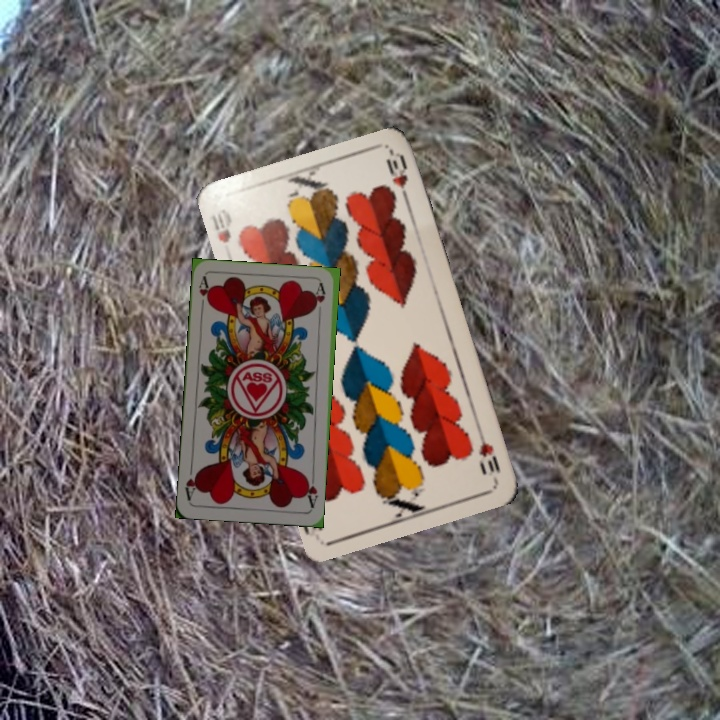H10: (474, 426, 503, 484), (207, 209, 234, 246)
HA: (301, 470, 321, 510), (195, 274, 213, 314)
